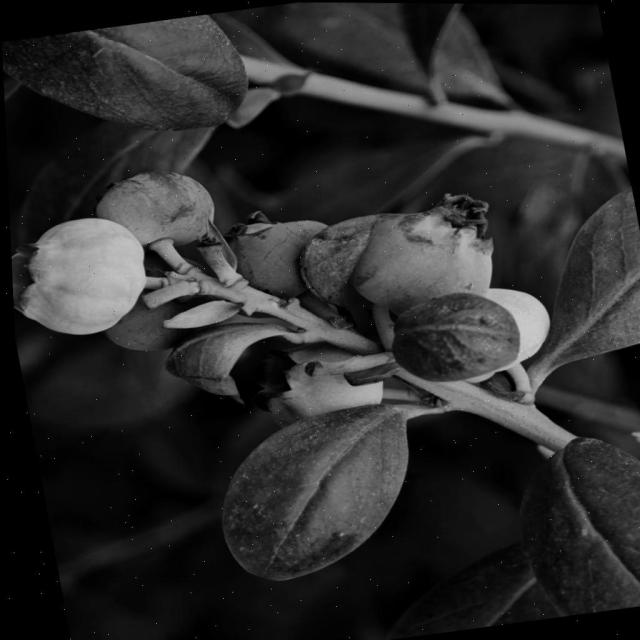Semi-RipeBlueBerry: (336, 193, 502, 321), (81, 159, 220, 252)
UnripeBlueBerry: (8, 208, 158, 346)
